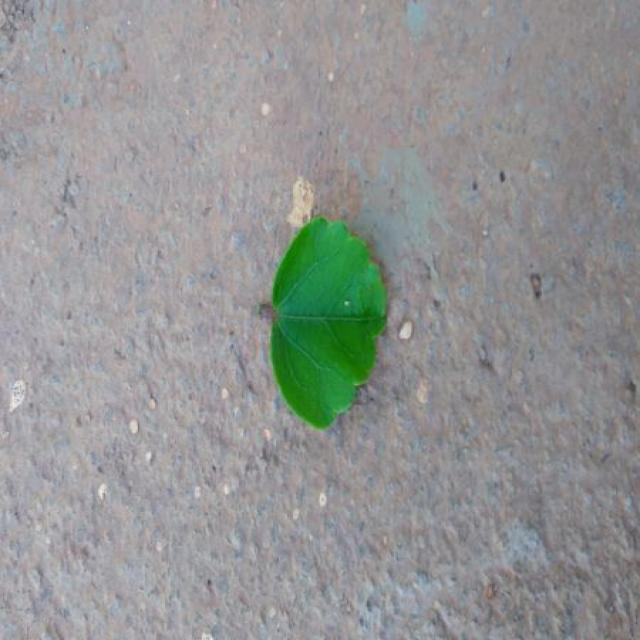Hibiscus: (270, 218, 387, 428)
